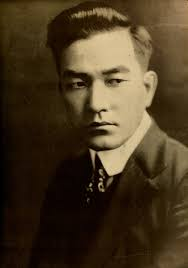asian_male: (40, 6, 159, 157)
